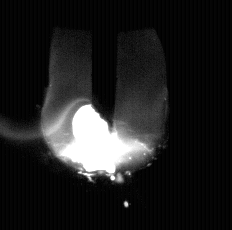arame: (92, 0, 116, 132)
poca: (39, 0, 166, 230)
